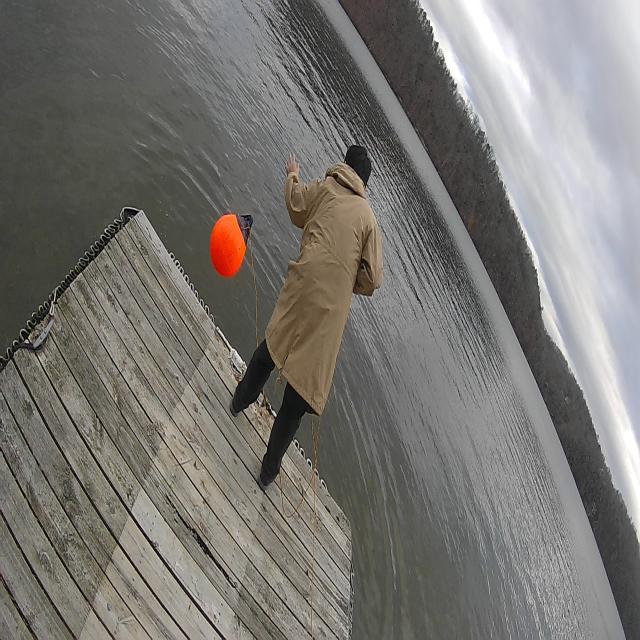Buoy: (207, 206, 255, 291)
